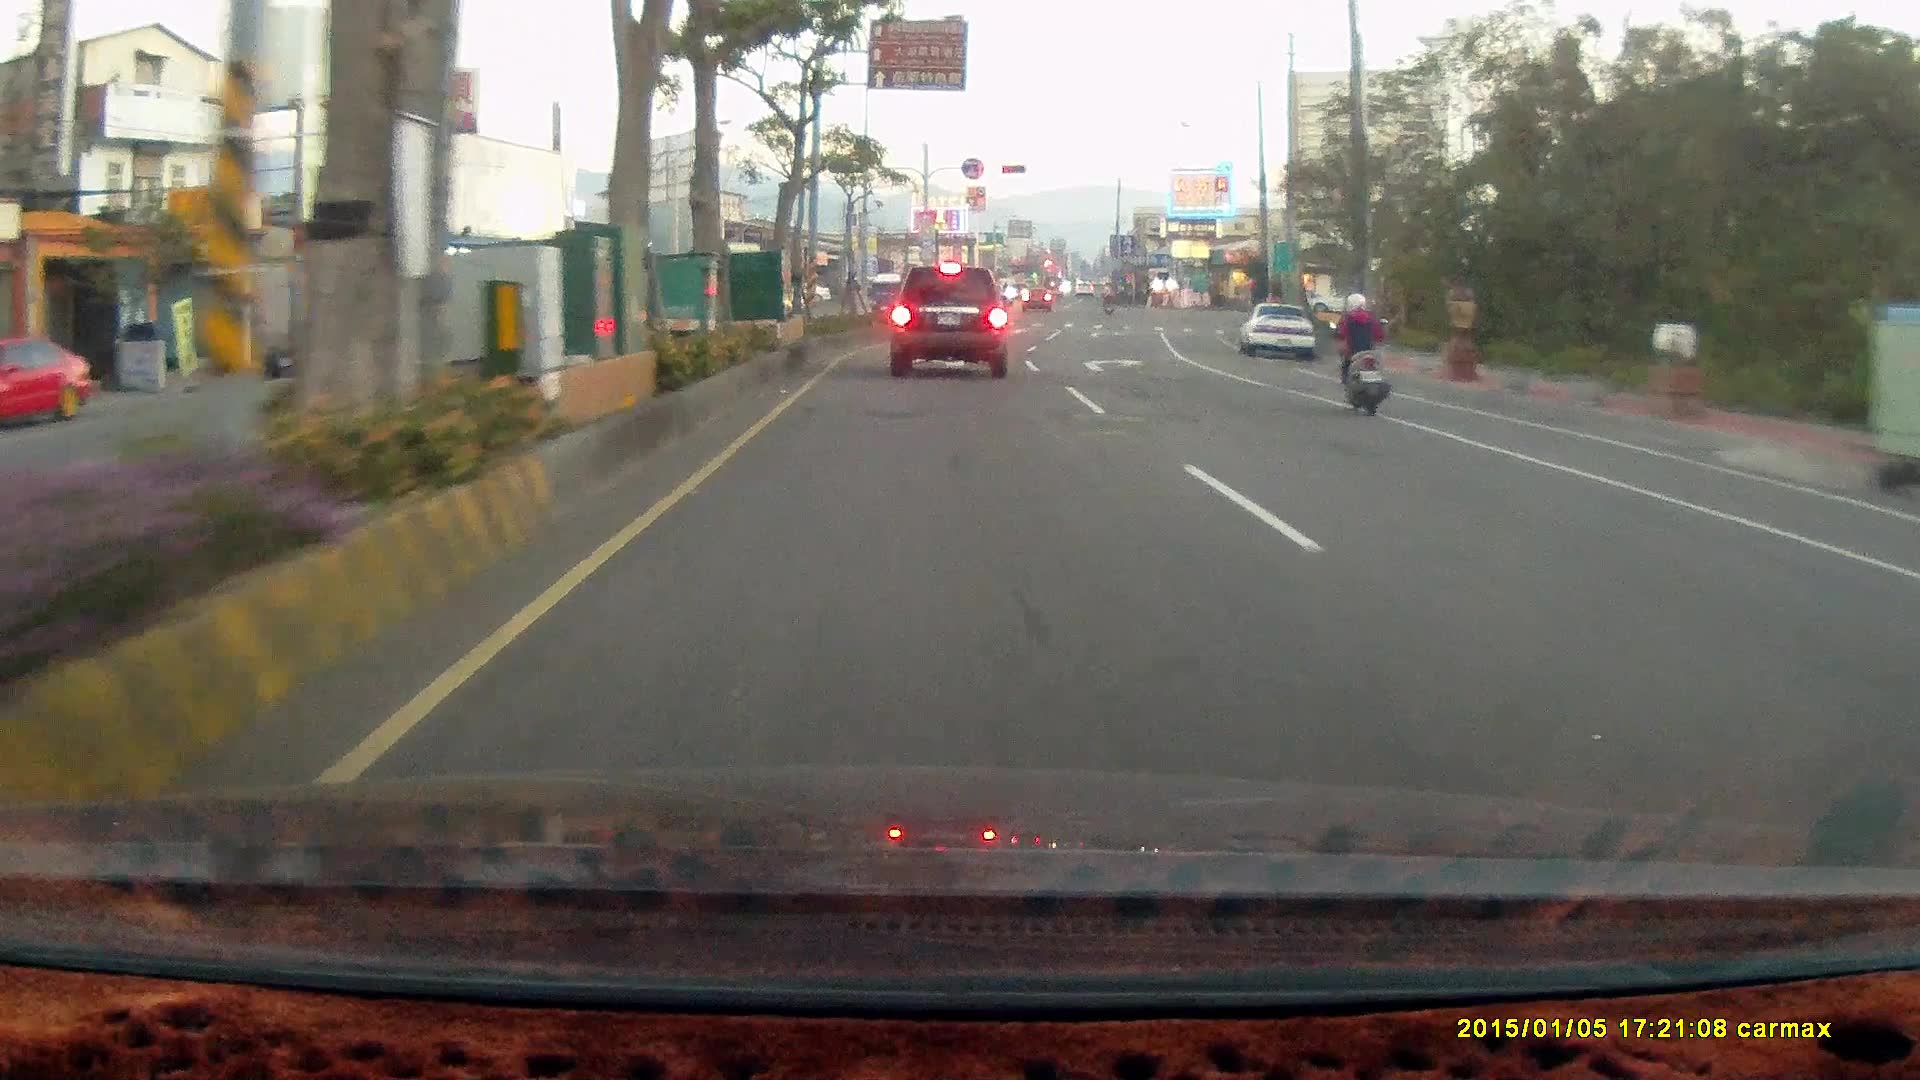rider: (1327, 292, 1390, 419)
vehicle: (887, 264, 1006, 379), (1, 335, 94, 433), (1896, 493, 1920, 836), (1883, 528, 1920, 690), (1235, 300, 1315, 361), (1244, 306, 1318, 361), (1300, 279, 1374, 315)
